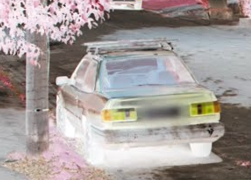car: (55, 47, 223, 165)
